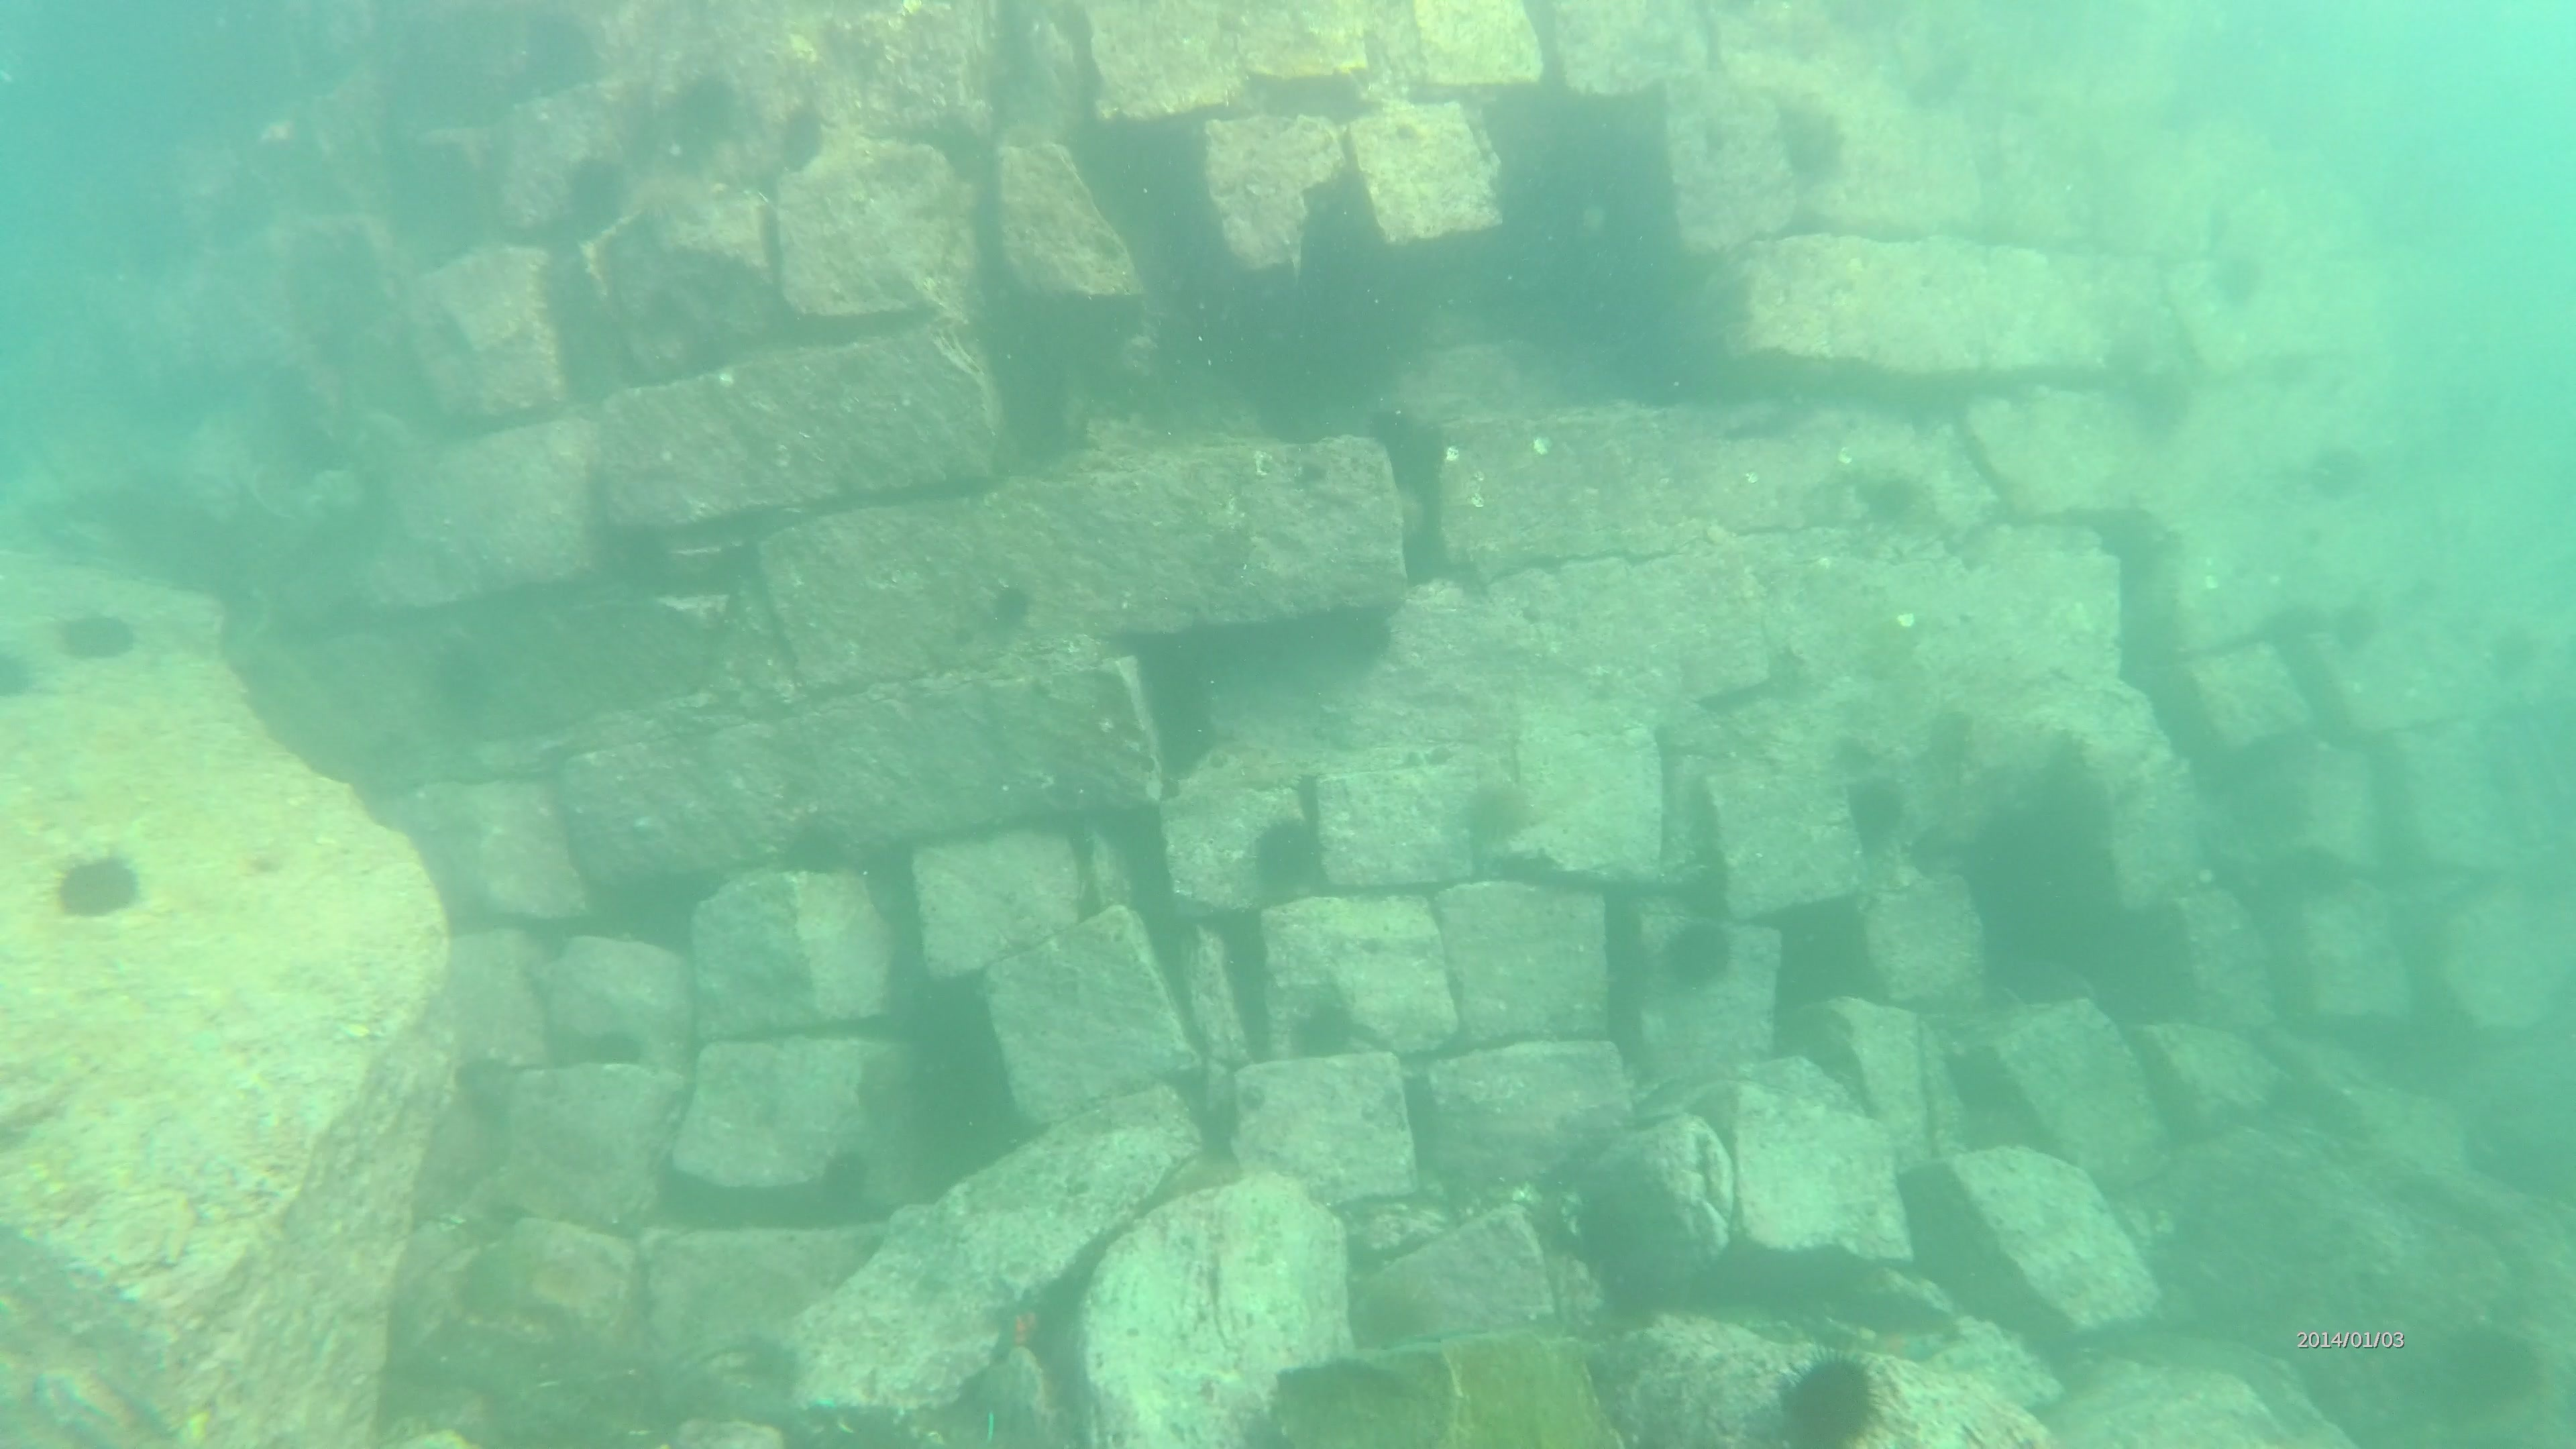echinus: (1767, 1345, 1909, 1449), (561, 156, 644, 244), (55, 840, 145, 922), (662, 62, 741, 154), (1253, 810, 1330, 899), (1658, 913, 1737, 996), (448, 1051, 536, 1123), (1870, 456, 1950, 534), (2127, 352, 2197, 439), (1350, 398, 1431, 472), (2307, 426, 2376, 513), (1782, 110, 1851, 195), (428, 626, 504, 702), (2279, 840, 2358, 913), (1845, 770, 1914, 853), (1467, 778, 1541, 855), (775, 823, 847, 897), (764, 101, 828, 184), (2479, 610, 2551, 683), (60, 603, 145, 663), (2212, 241, 2277, 318), (812, 1141, 872, 1219), (2323, 596, 2385, 667), (1299, 991, 1357, 1063), (580, 1024, 655, 1072), (991, 586, 1044, 639), (0, 639, 37, 708)
